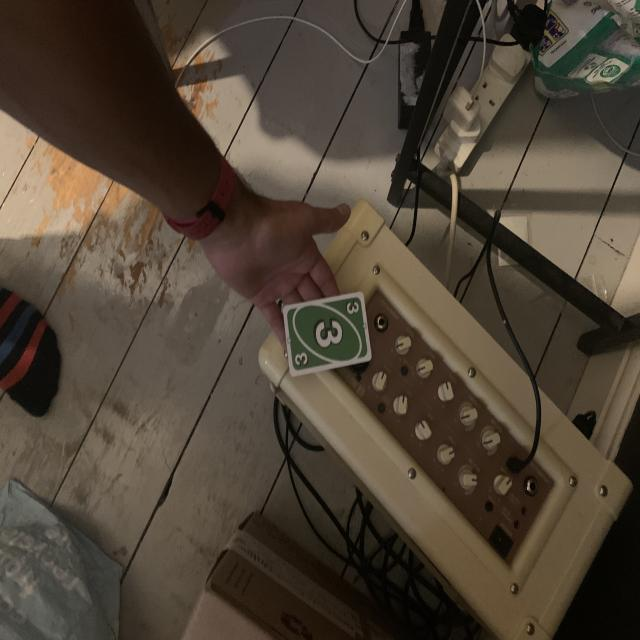lgreen-3: (343, 298, 361, 317)
